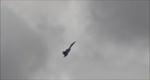maybay_muctieu: (61, 39, 80, 59)
